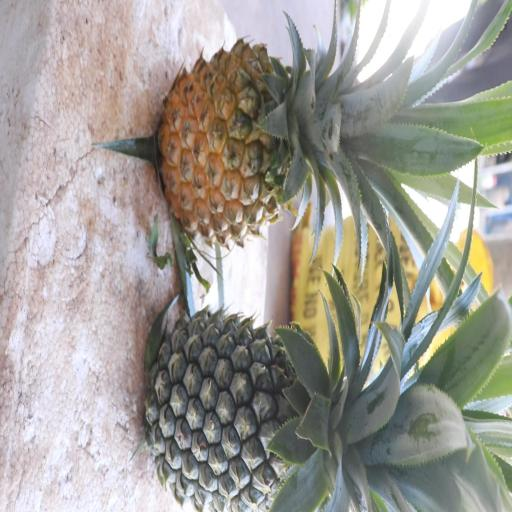Pineapple - v8 v1: (163, 25, 406, 240)
